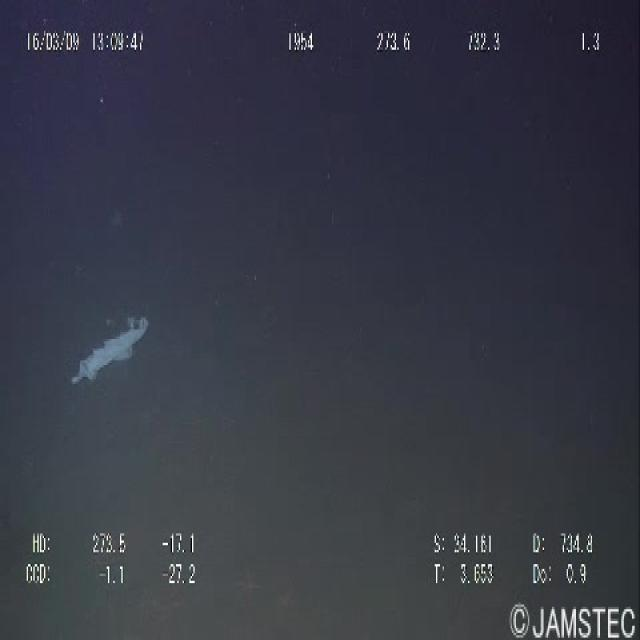plastic: (61, 294, 156, 403)
